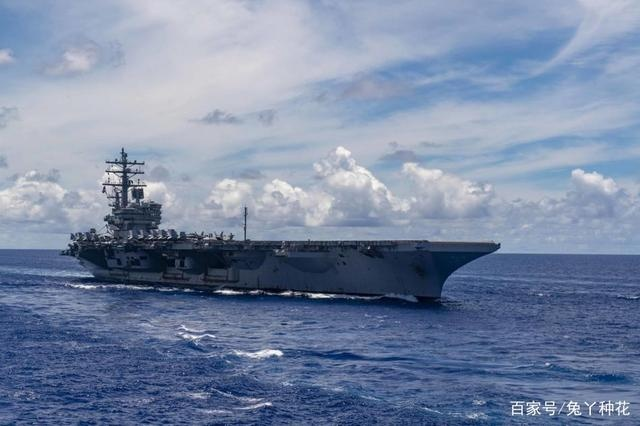warship: (61, 145, 504, 304)
